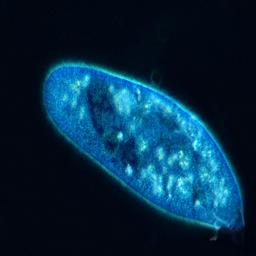Paramecium: (44, 64, 245, 234)
